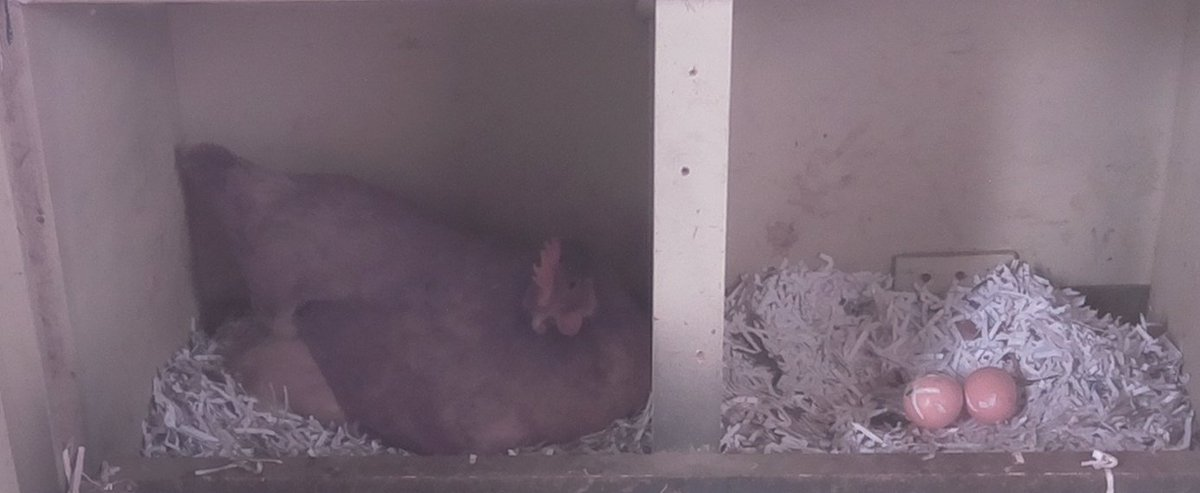egg: (897, 367, 971, 433), (960, 365, 1023, 428)
hen: (179, 171, 649, 459)
